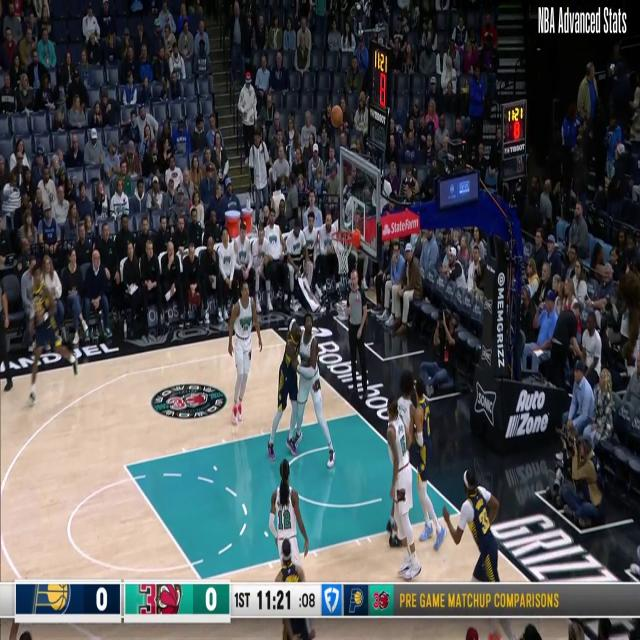ball: (326, 102, 346, 132)
judge: (341, 266, 373, 404), (248, 128, 272, 221)
player: (443, 471, 511, 635), (25, 263, 79, 400), (290, 315, 338, 468), (262, 454, 314, 590), (407, 381, 446, 547), (386, 397, 420, 580), (268, 320, 303, 462), (228, 283, 262, 429)
